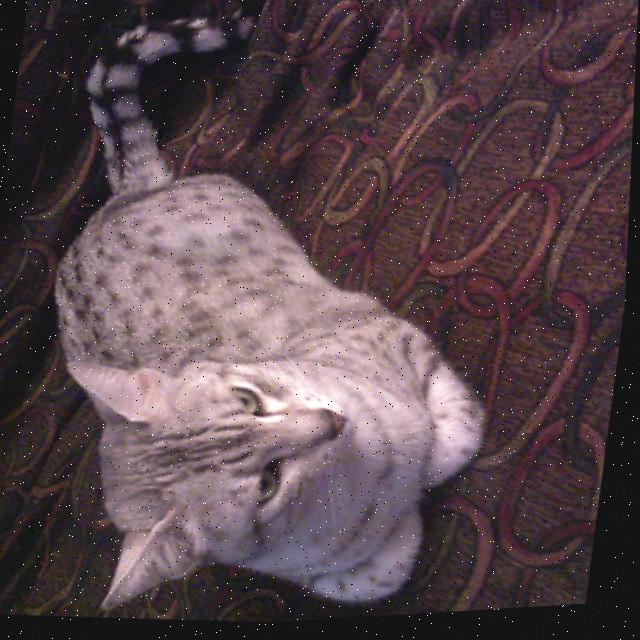Egyptian Mau: (9, 0, 544, 639)
